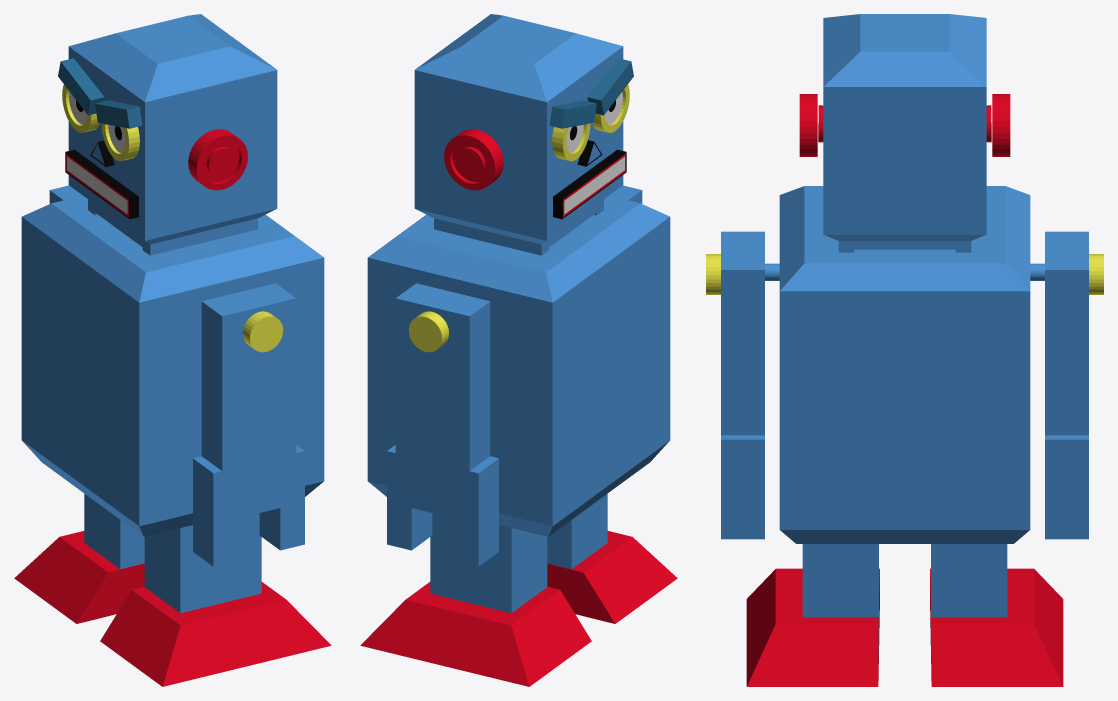
The model's file is Robot.fbx.
3 renders of one model, left to right at view 1: azimuth 30°, elevation 25°; view 2: azimuth 150°, elevation 25°; view 3: azimuth 270°, elevation 25°, orthographic. The views are drawn at different scales.
Visible parts, largest first — view 1: Body, Head, Legs, Arms, Bolts, Eyebrows, Mouth, Eyes; view 2: Body, Head, Legs, Arms, Bolts, Eyebrows, Mouth, Eyes; view 3: Body, Head, Legs, Arms, Bolts.
Boxes of the visible parts, x1=… form: Body: x1=21, y1=195, x2=324, y2=536; Head: x1=68, y1=14, x2=277, y2=255; Legs: x1=14, y1=494, x2=331, y2=686; Arms: x1=49, y1=185, x2=304, y2=566; Bolts: x1=188, y1=129, x2=247, y2=190; Eyebrows: x1=58, y1=58, x2=142, y2=128; Mouth: x1=65, y1=149, x2=138, y2=219; Eyes: x1=62, y1=84, x2=139, y2=161; Body: x1=367, y1=195, x2=670, y2=536; Head: x1=414, y1=14, x2=623, y2=255; Legs: x1=360, y1=494, x2=677, y2=686; Arms: x1=387, y1=185, x2=642, y2=566; Bolts: x1=444, y1=129, x2=503, y2=190; Eyebrows: x1=549, y1=58, x2=633, y2=128; Mouth: x1=553, y1=149, x2=626, y2=219; Eyes: x1=552, y1=84, x2=629, y2=161; Body: x1=779, y1=186, x2=1030, y2=543; Head: x1=823, y1=14, x2=986, y2=252; Legs: x1=746, y1=544, x2=1063, y2=686; Arms: x1=706, y1=231, x2=1103, y2=539; Bolts: x1=799, y1=94, x2=1010, y2=156.
Size of the model in its own units: 2.79 by 4.88 by 8.25.
